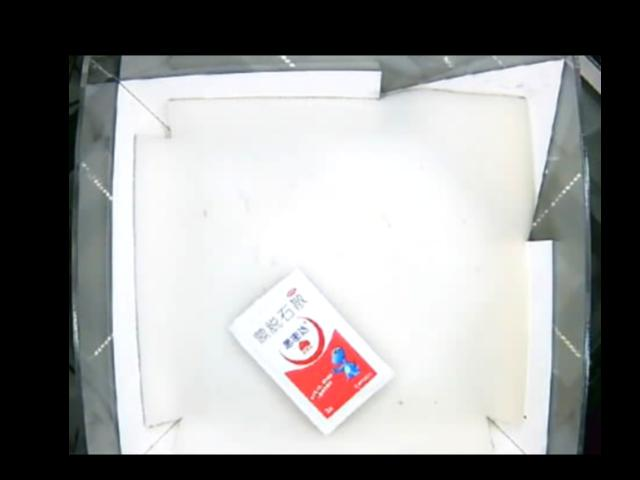Medicine: (229, 269, 394, 433)
